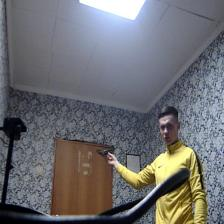drone: (96, 142, 116, 162)
